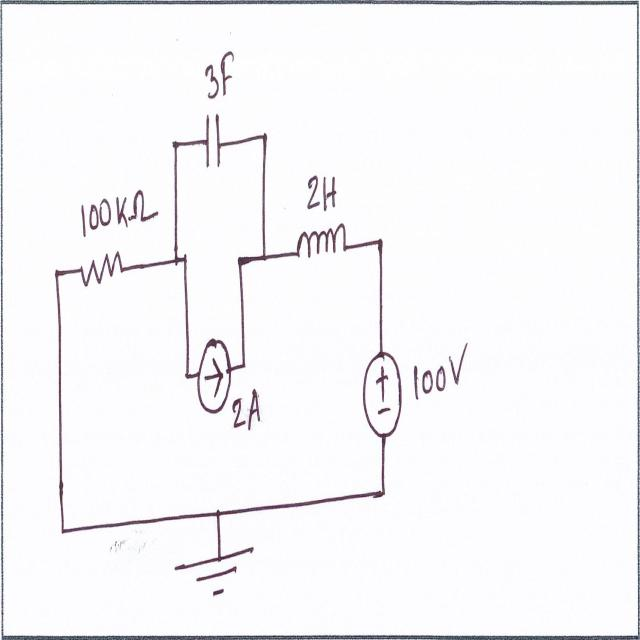capacitor: (202, 107, 224, 173)
current_source: (195, 328, 235, 418)
ground: (173, 538, 257, 609)
inductor: (294, 216, 353, 271)
resistor: (73, 252, 126, 294)
voltage_source: (360, 352, 402, 442)
